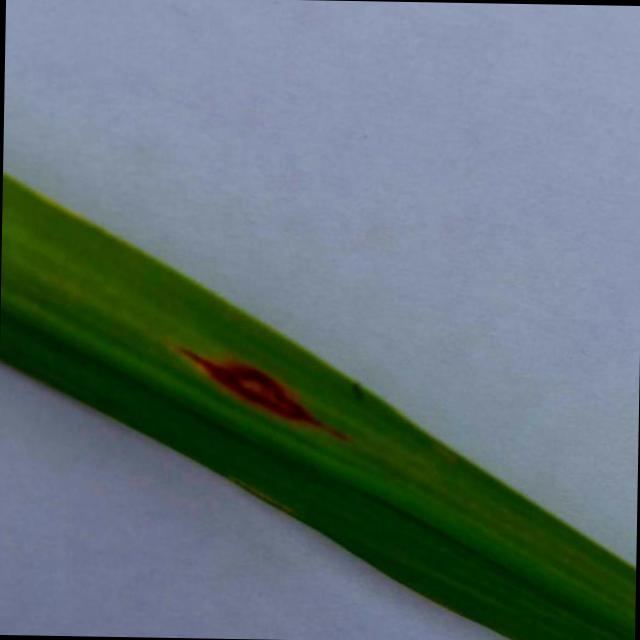Rice_Blast: (162, 284, 364, 462)
